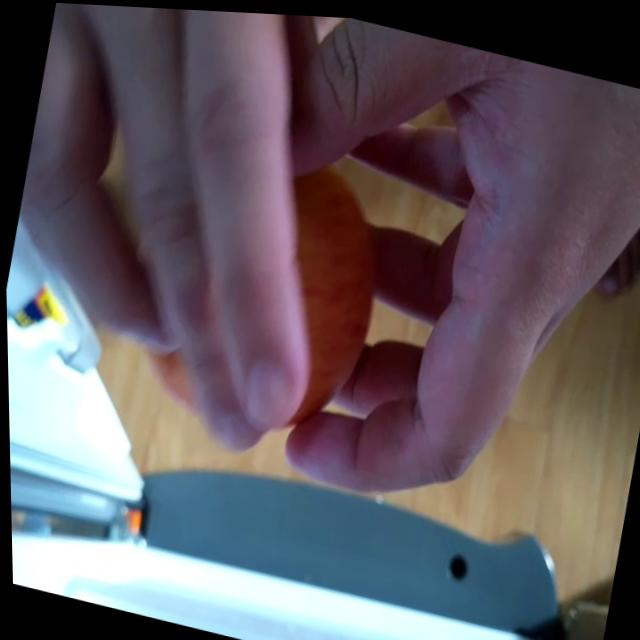apple: (245, 143, 407, 441)
